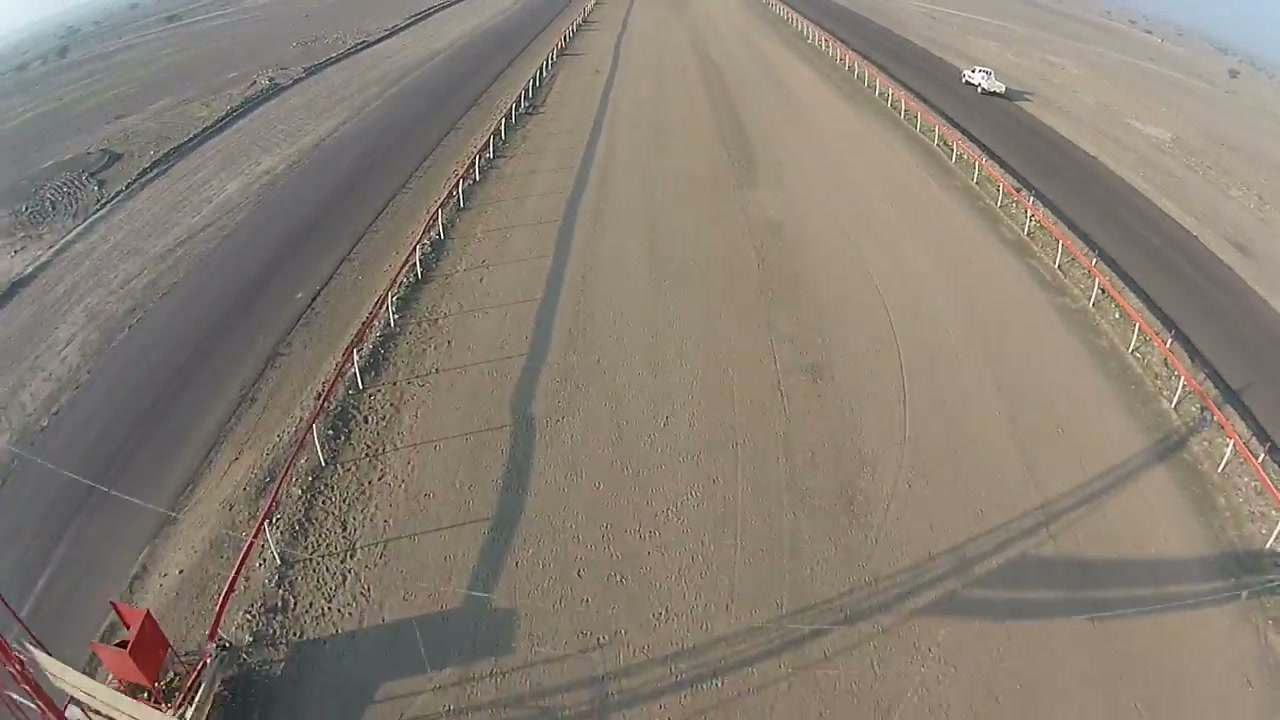animal_footprint: (479, 389, 751, 715)
